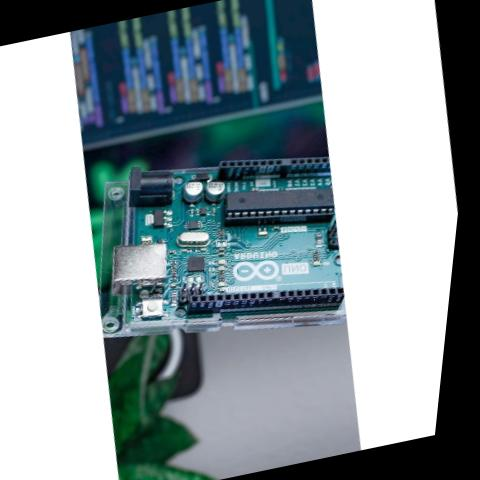Arduino-Uno: (85, 123, 367, 356)
